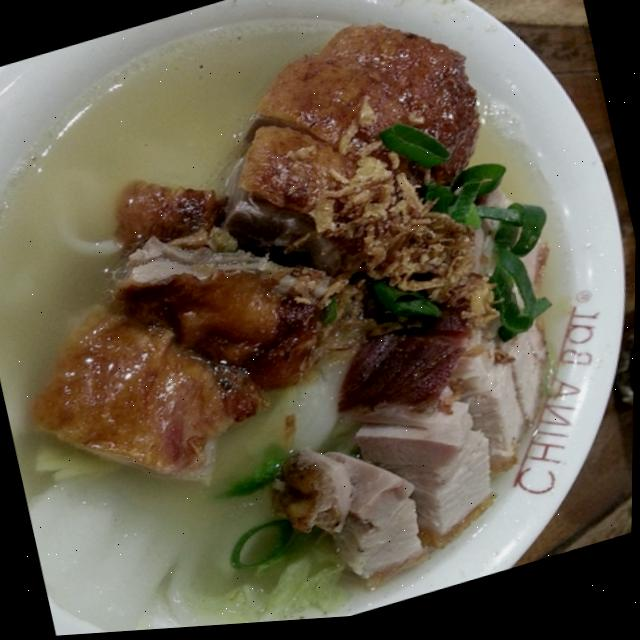烧串烤肉: (0, 6, 631, 640)
